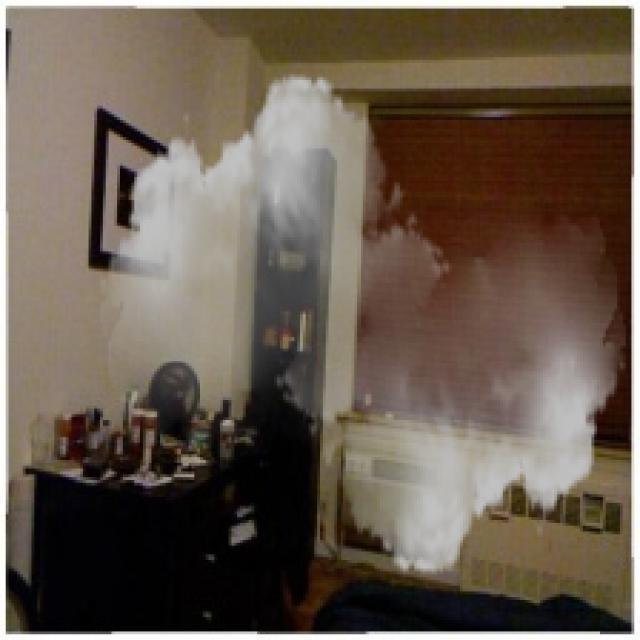Smoke: (100, 57, 626, 592)
